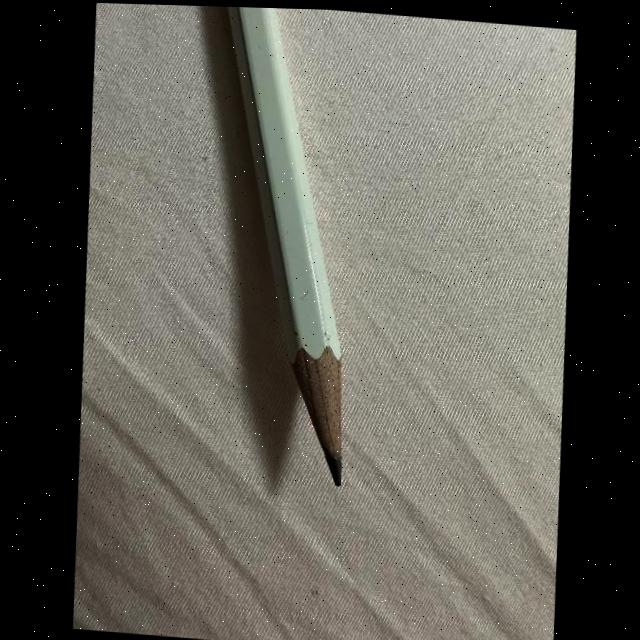pencil: (192, 4, 374, 498)
